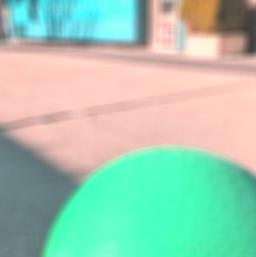algae: (38, 146, 256, 257)
